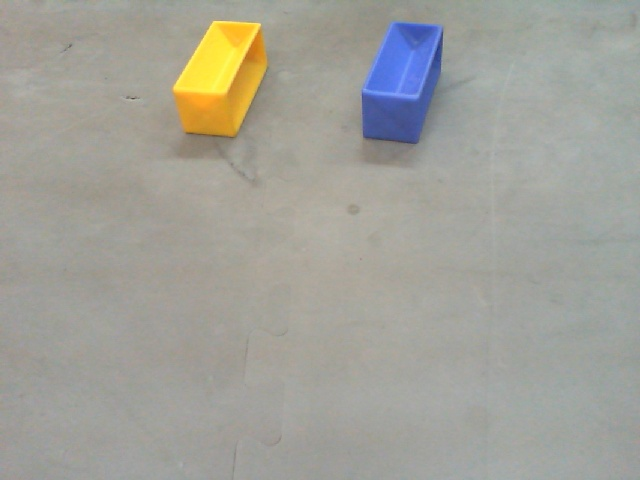BlueSample: (360, 20, 444, 148)
YellowSample: (171, 16, 270, 142)
